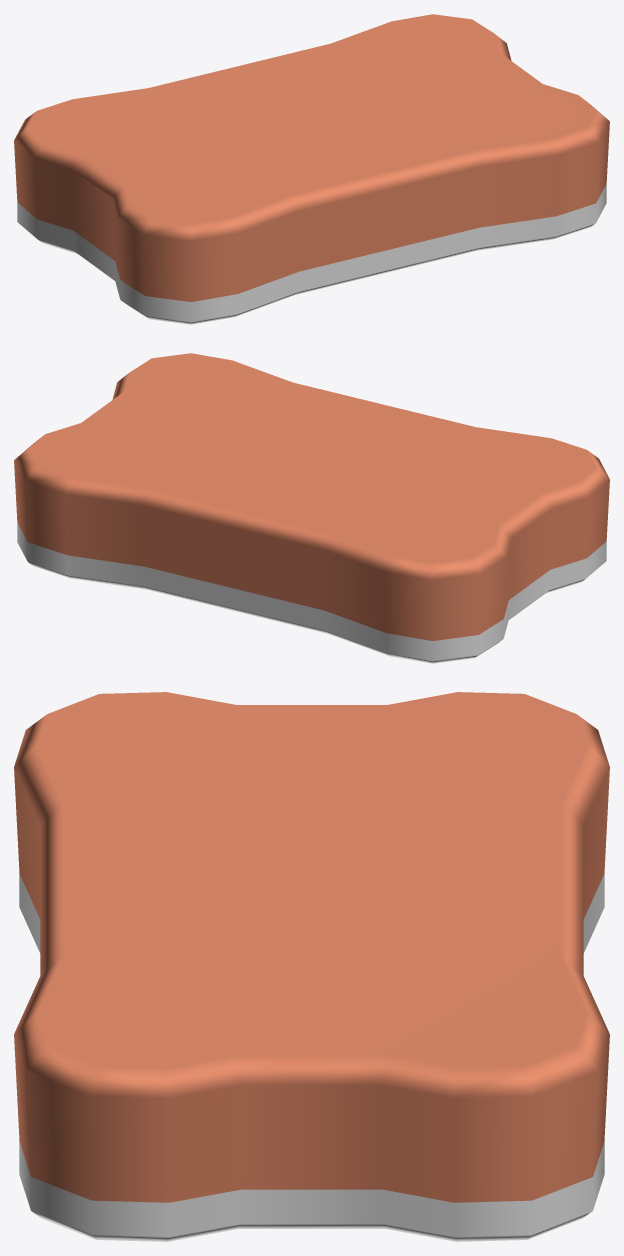
Rendered from eraser.fbx.
3 renders of one model, top to bottom at view 1: azimuth 30°, elevation 25°; view 2: azimuth 150°, elevation 25°; view 3: azimuth 270°, elevation 25°, orthographic. The views are drawn at different scales.
Visible parts, largest first — view 1: Whiteboard_Eraser; view 2: Whiteboard_Eraser; view 3: Whiteboard_Eraser.
Part boxes in pixels (left/top/right/bottom): Whiteboard_Eraser: left=14, top=14, right=609, bottom=324; Whiteboard_Eraser: left=14, top=353, right=609, bottom=663; Whiteboard_Eraser: left=14, top=692, right=609, bottom=1241.
Size of the model in its own units: 275 by 55.32 by 175.
